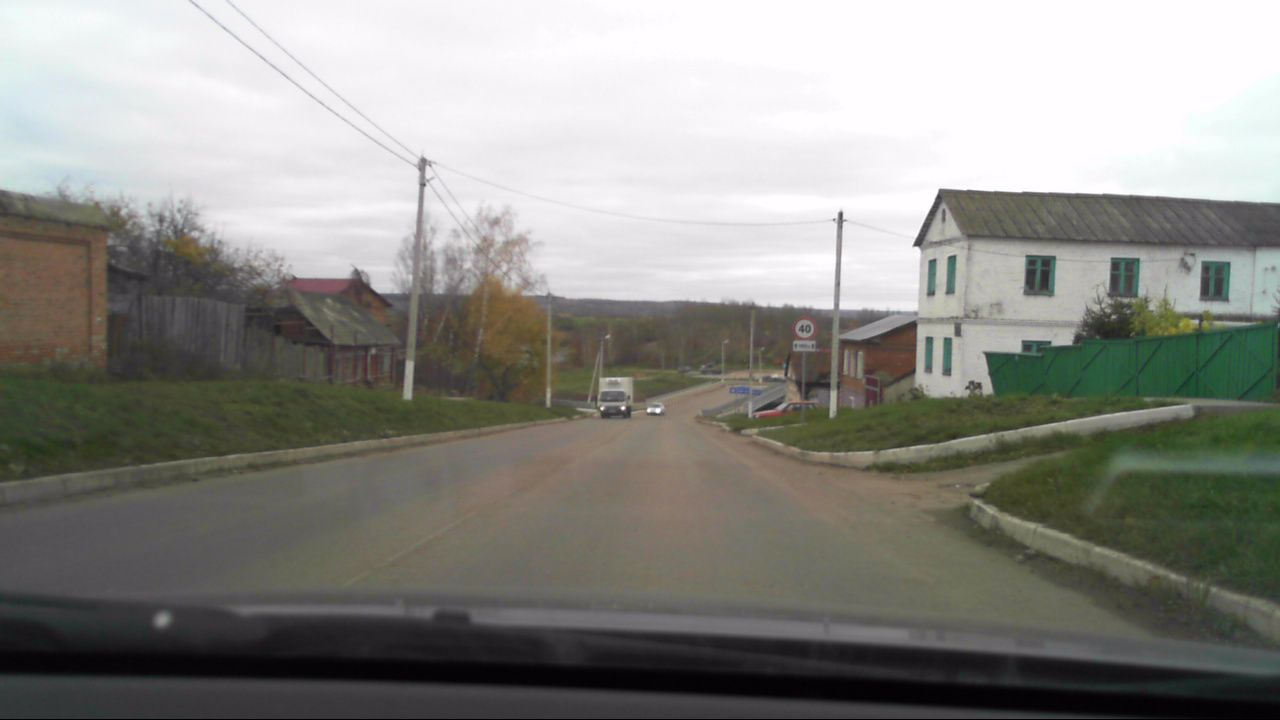speed_warning_40: (794, 318, 815, 338)
